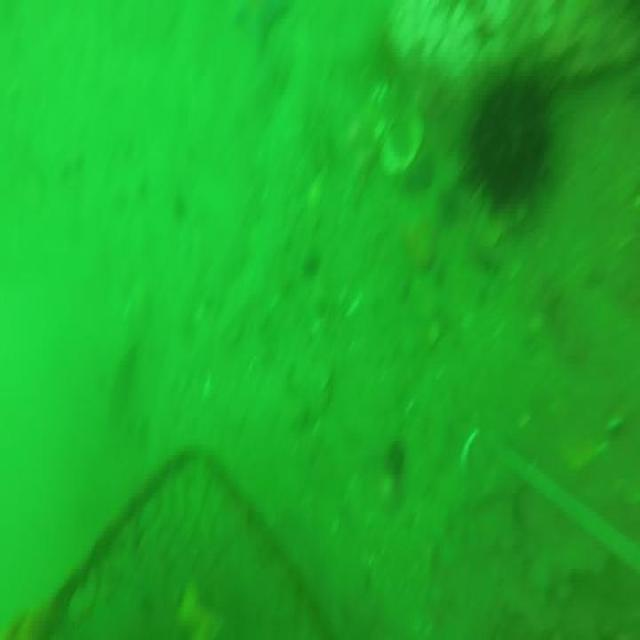echinus: (457, 63, 563, 210)
scallop: (383, 109, 429, 177)
